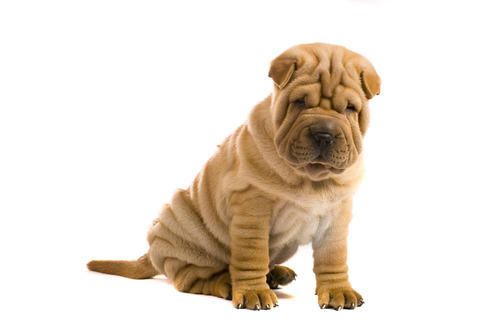dog: (244, 36, 392, 192)
